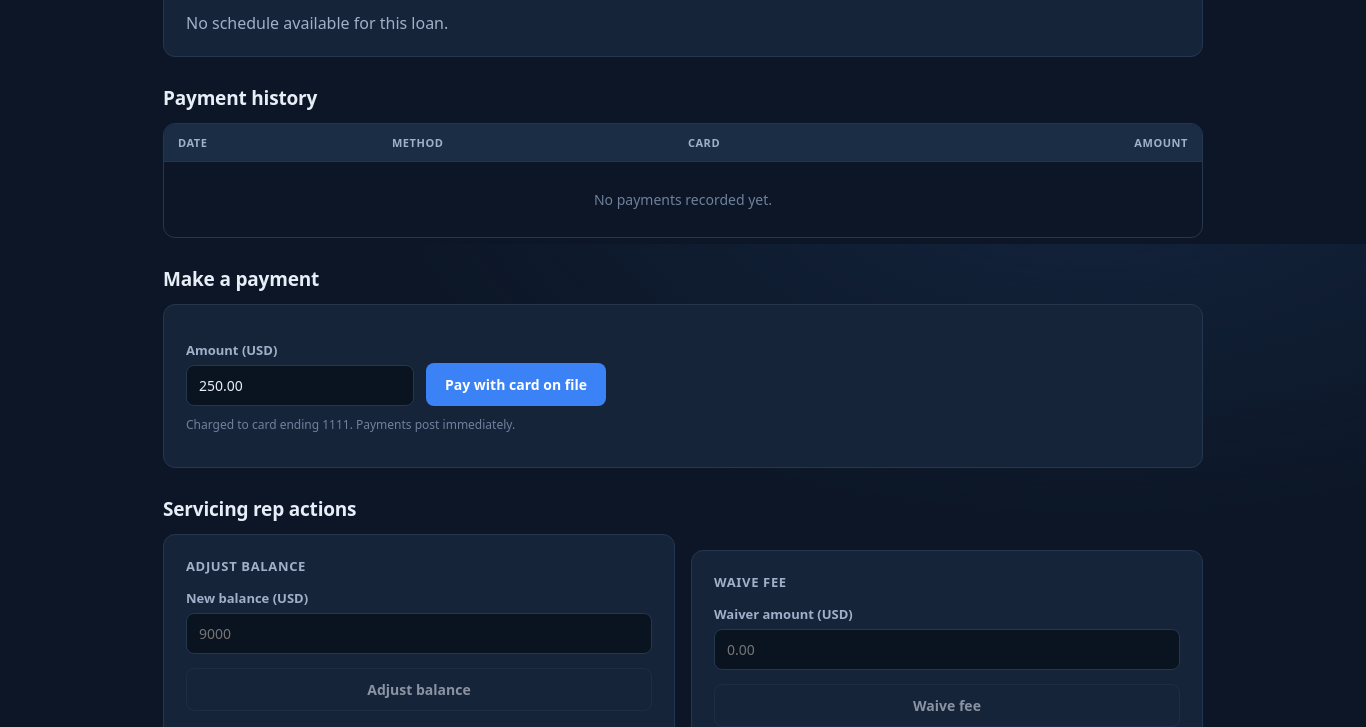
it: loan detail — payment idempotency (D19) › keeps the original key retryable after an ambiguous failure
(page scrolled)
Click the button "Pay with card on file" at (516, 384), box [426,362,606,406]
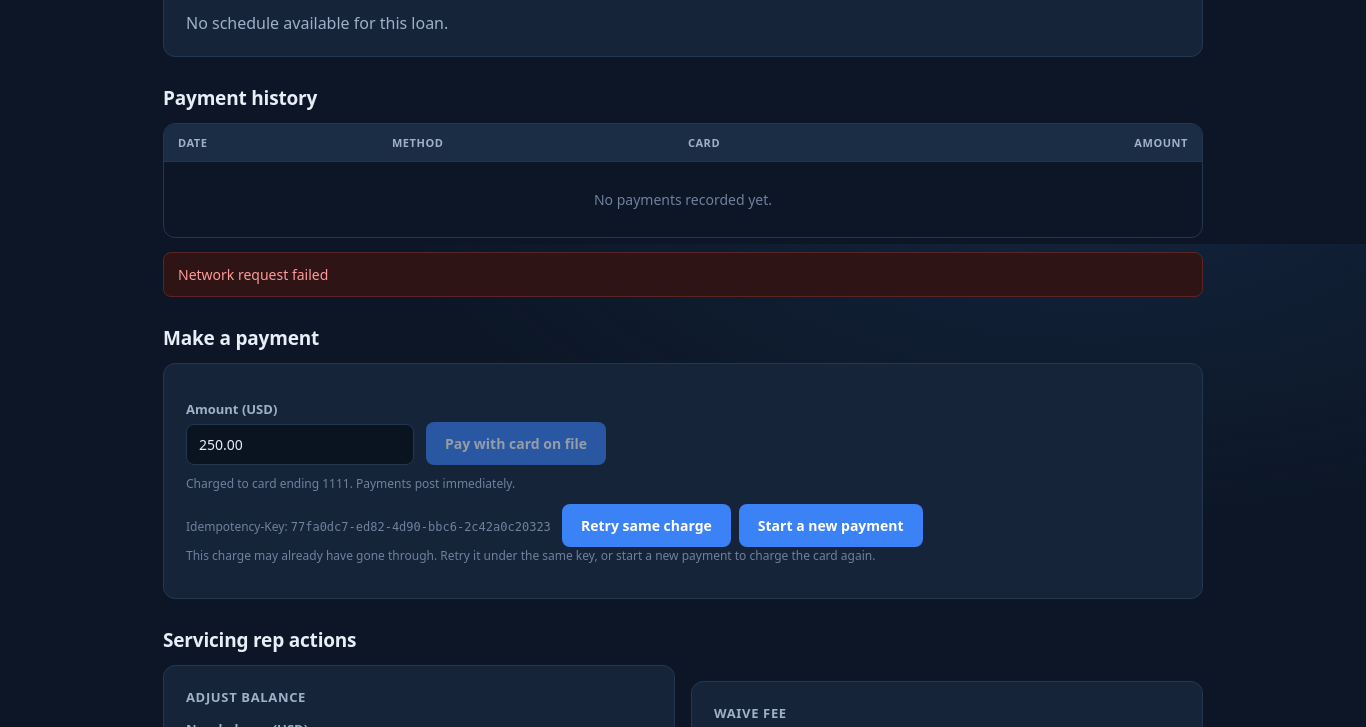
Now the text "Network request failed" is shown, box [163,252,1203,296]
Click the button "Retry same charge" at (646, 525), box [562,504,731,546]
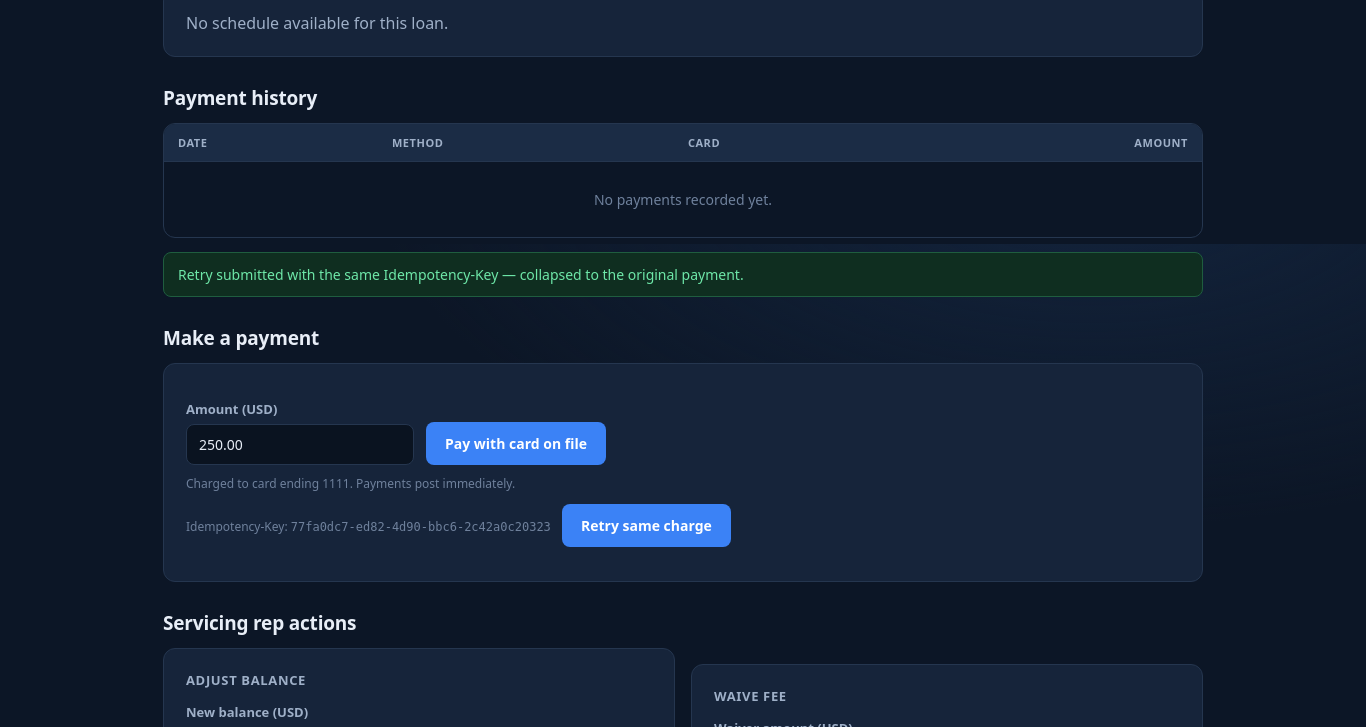
Now the text "collapsed to the original payment" is shown, box [178,264,744,284]
